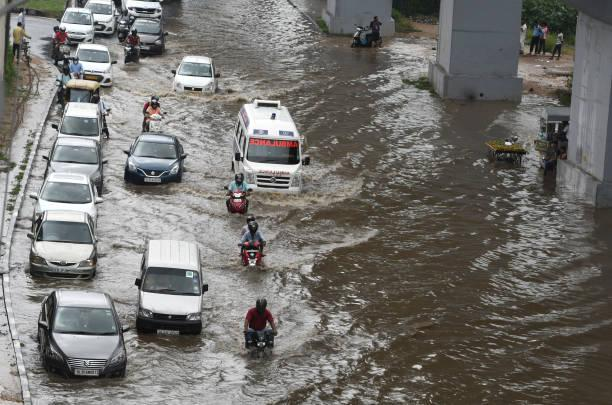AMBULANCE: (233, 98, 309, 201), (241, 127, 300, 167)
